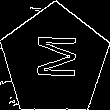M_W: (30, 37, 79, 84)
